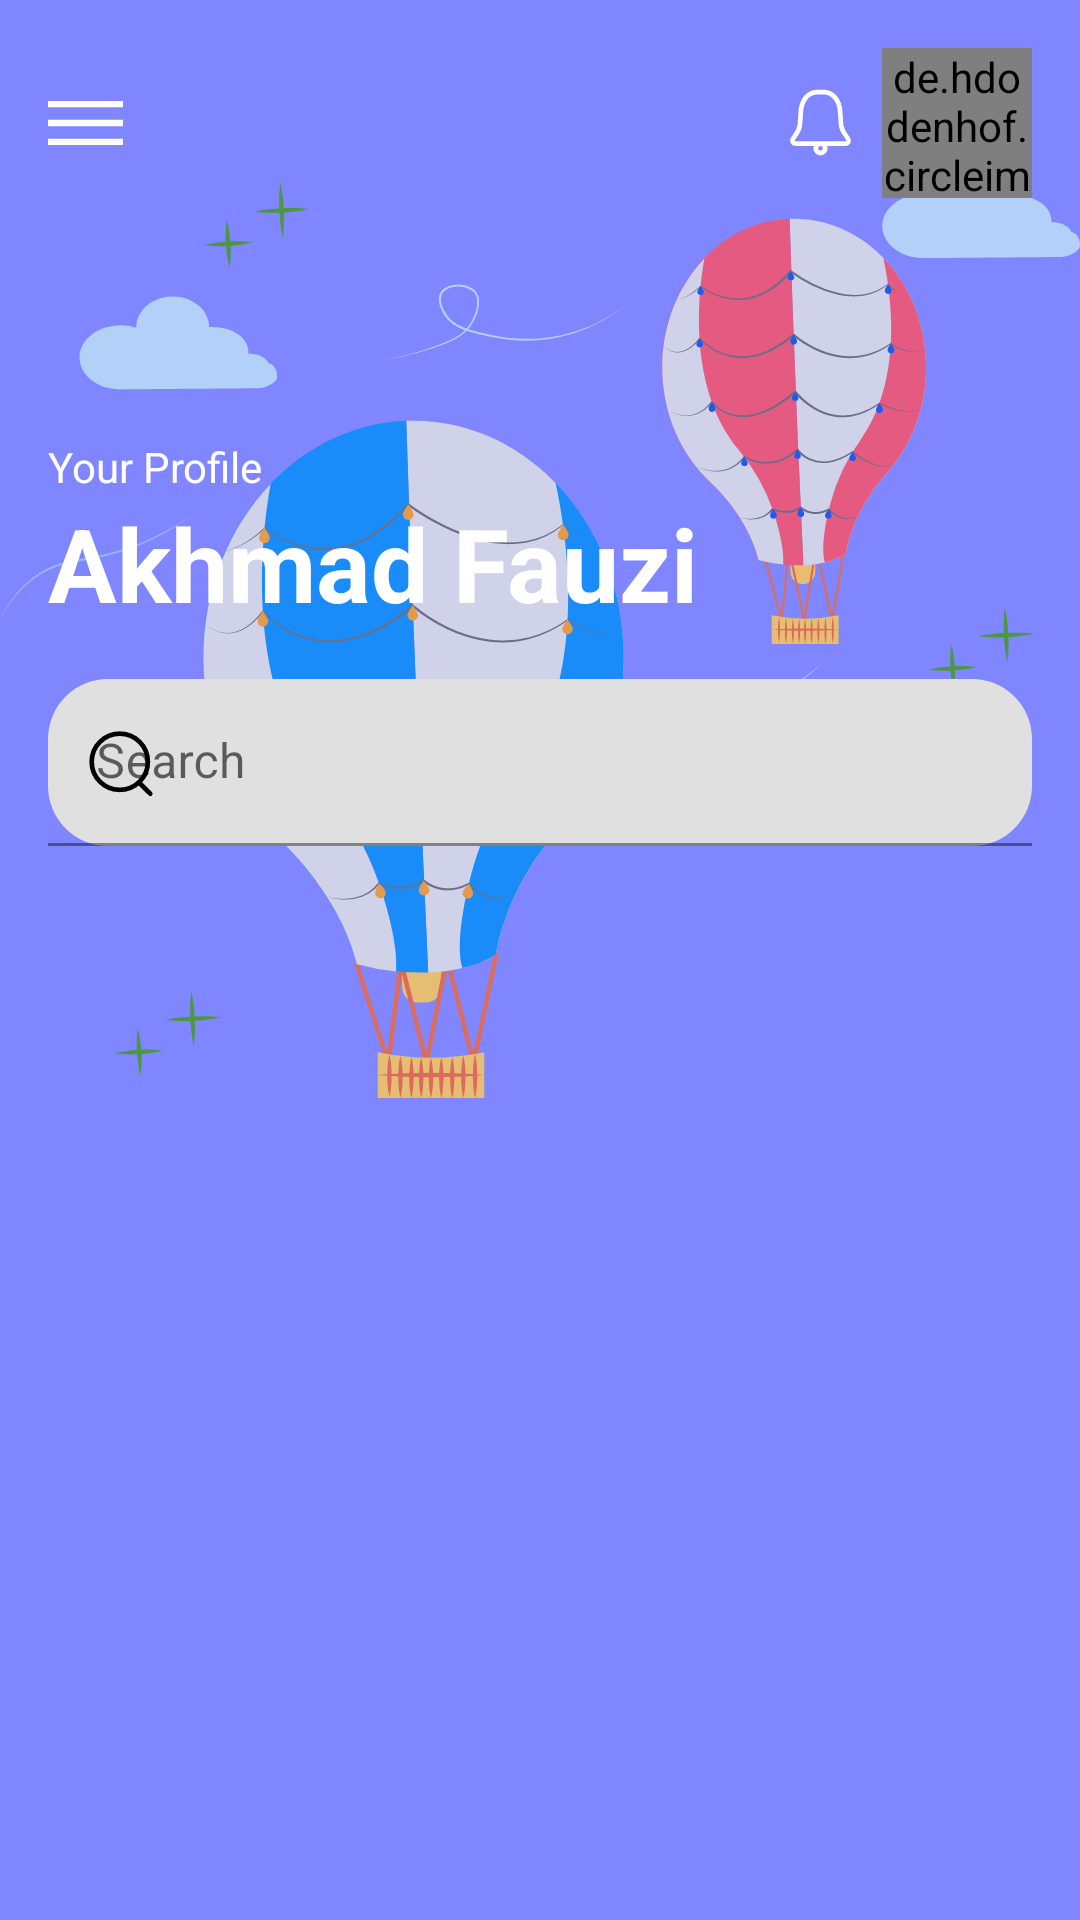

Icons on this 1080 x 1920 Android screen, each with the point to tap as (x=x, y=y):
notification: (x=820, y=122)
